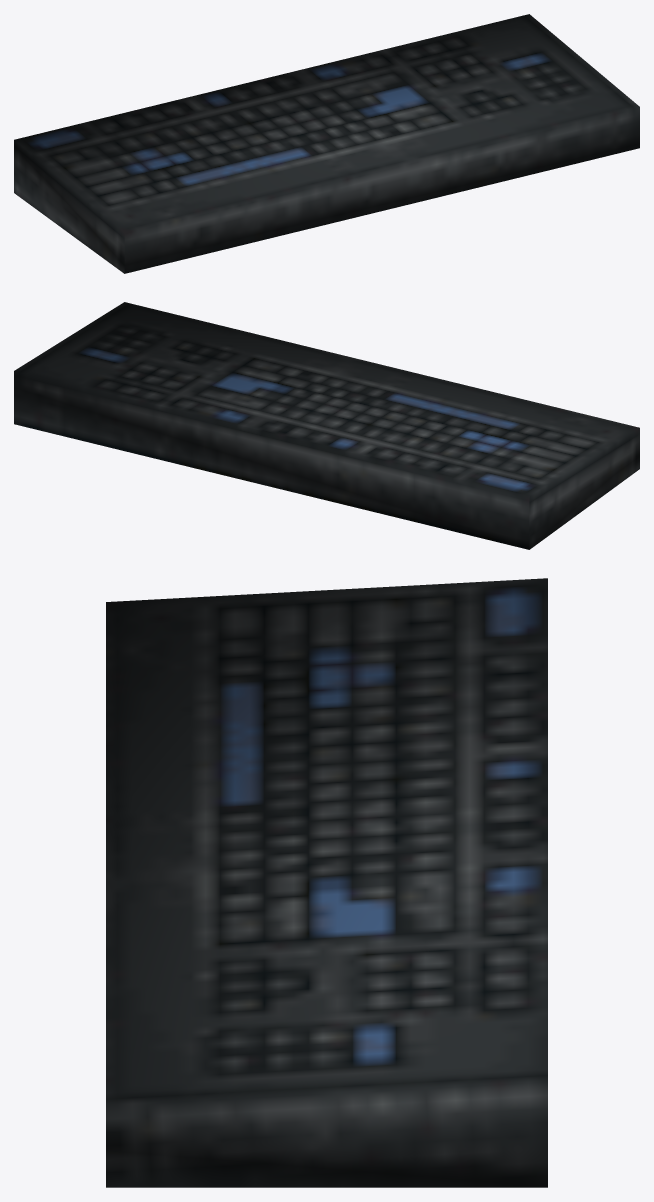
File: computer-keyboard.glb
The picture shows the model from 3 angles, top to bottom: view 1: azimuth 30°, elevation 25°; view 2: azimuth 150°, elevation 25°; view 3: azimuth 270°, elevation 25°; orthographic projection. The views are drawn at different scales.
Parts seen in each view (by area): view 1: Cube.003; view 2: Cube.003; view 3: Cube.003.
Part boxes in pixels (x1,y1,x2,y2): Cube.003: [14, 14, 639, 273]; Cube.003: [14, 302, 639, 549]; Cube.003: [106, 578, 547, 1187].
Bounding box in the file's own units: 0.4921 × 0.0485 × 0.1828.
Materials: 1 (1 with a texture image).
